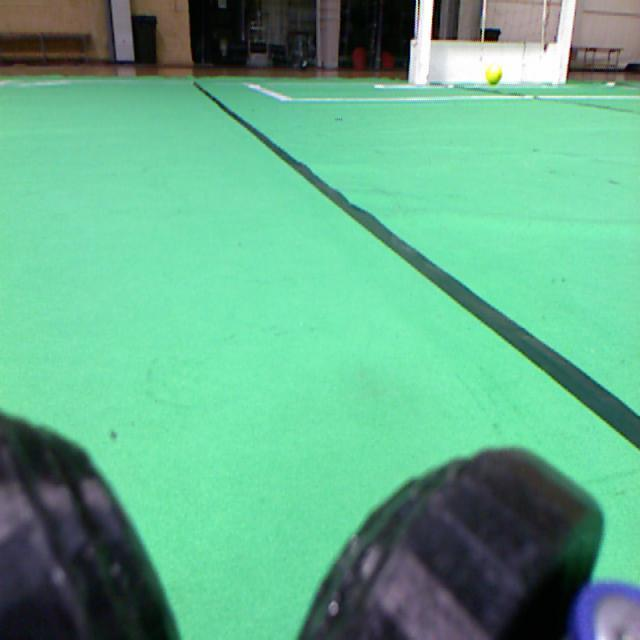ball: (485, 63, 501, 85)
goal: (557, 0, 575, 83), (416, 0, 433, 84)
